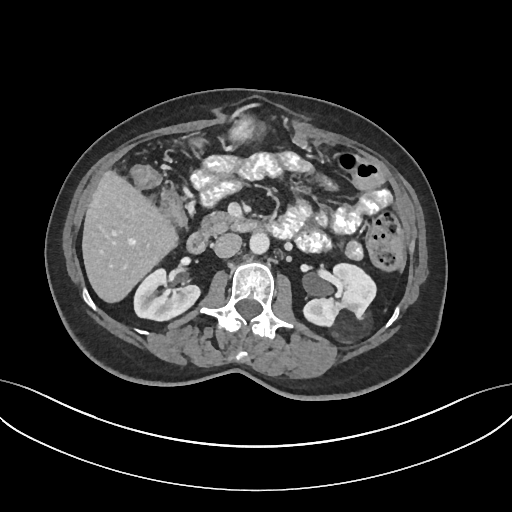Lesion: (327, 310, 375, 343)
